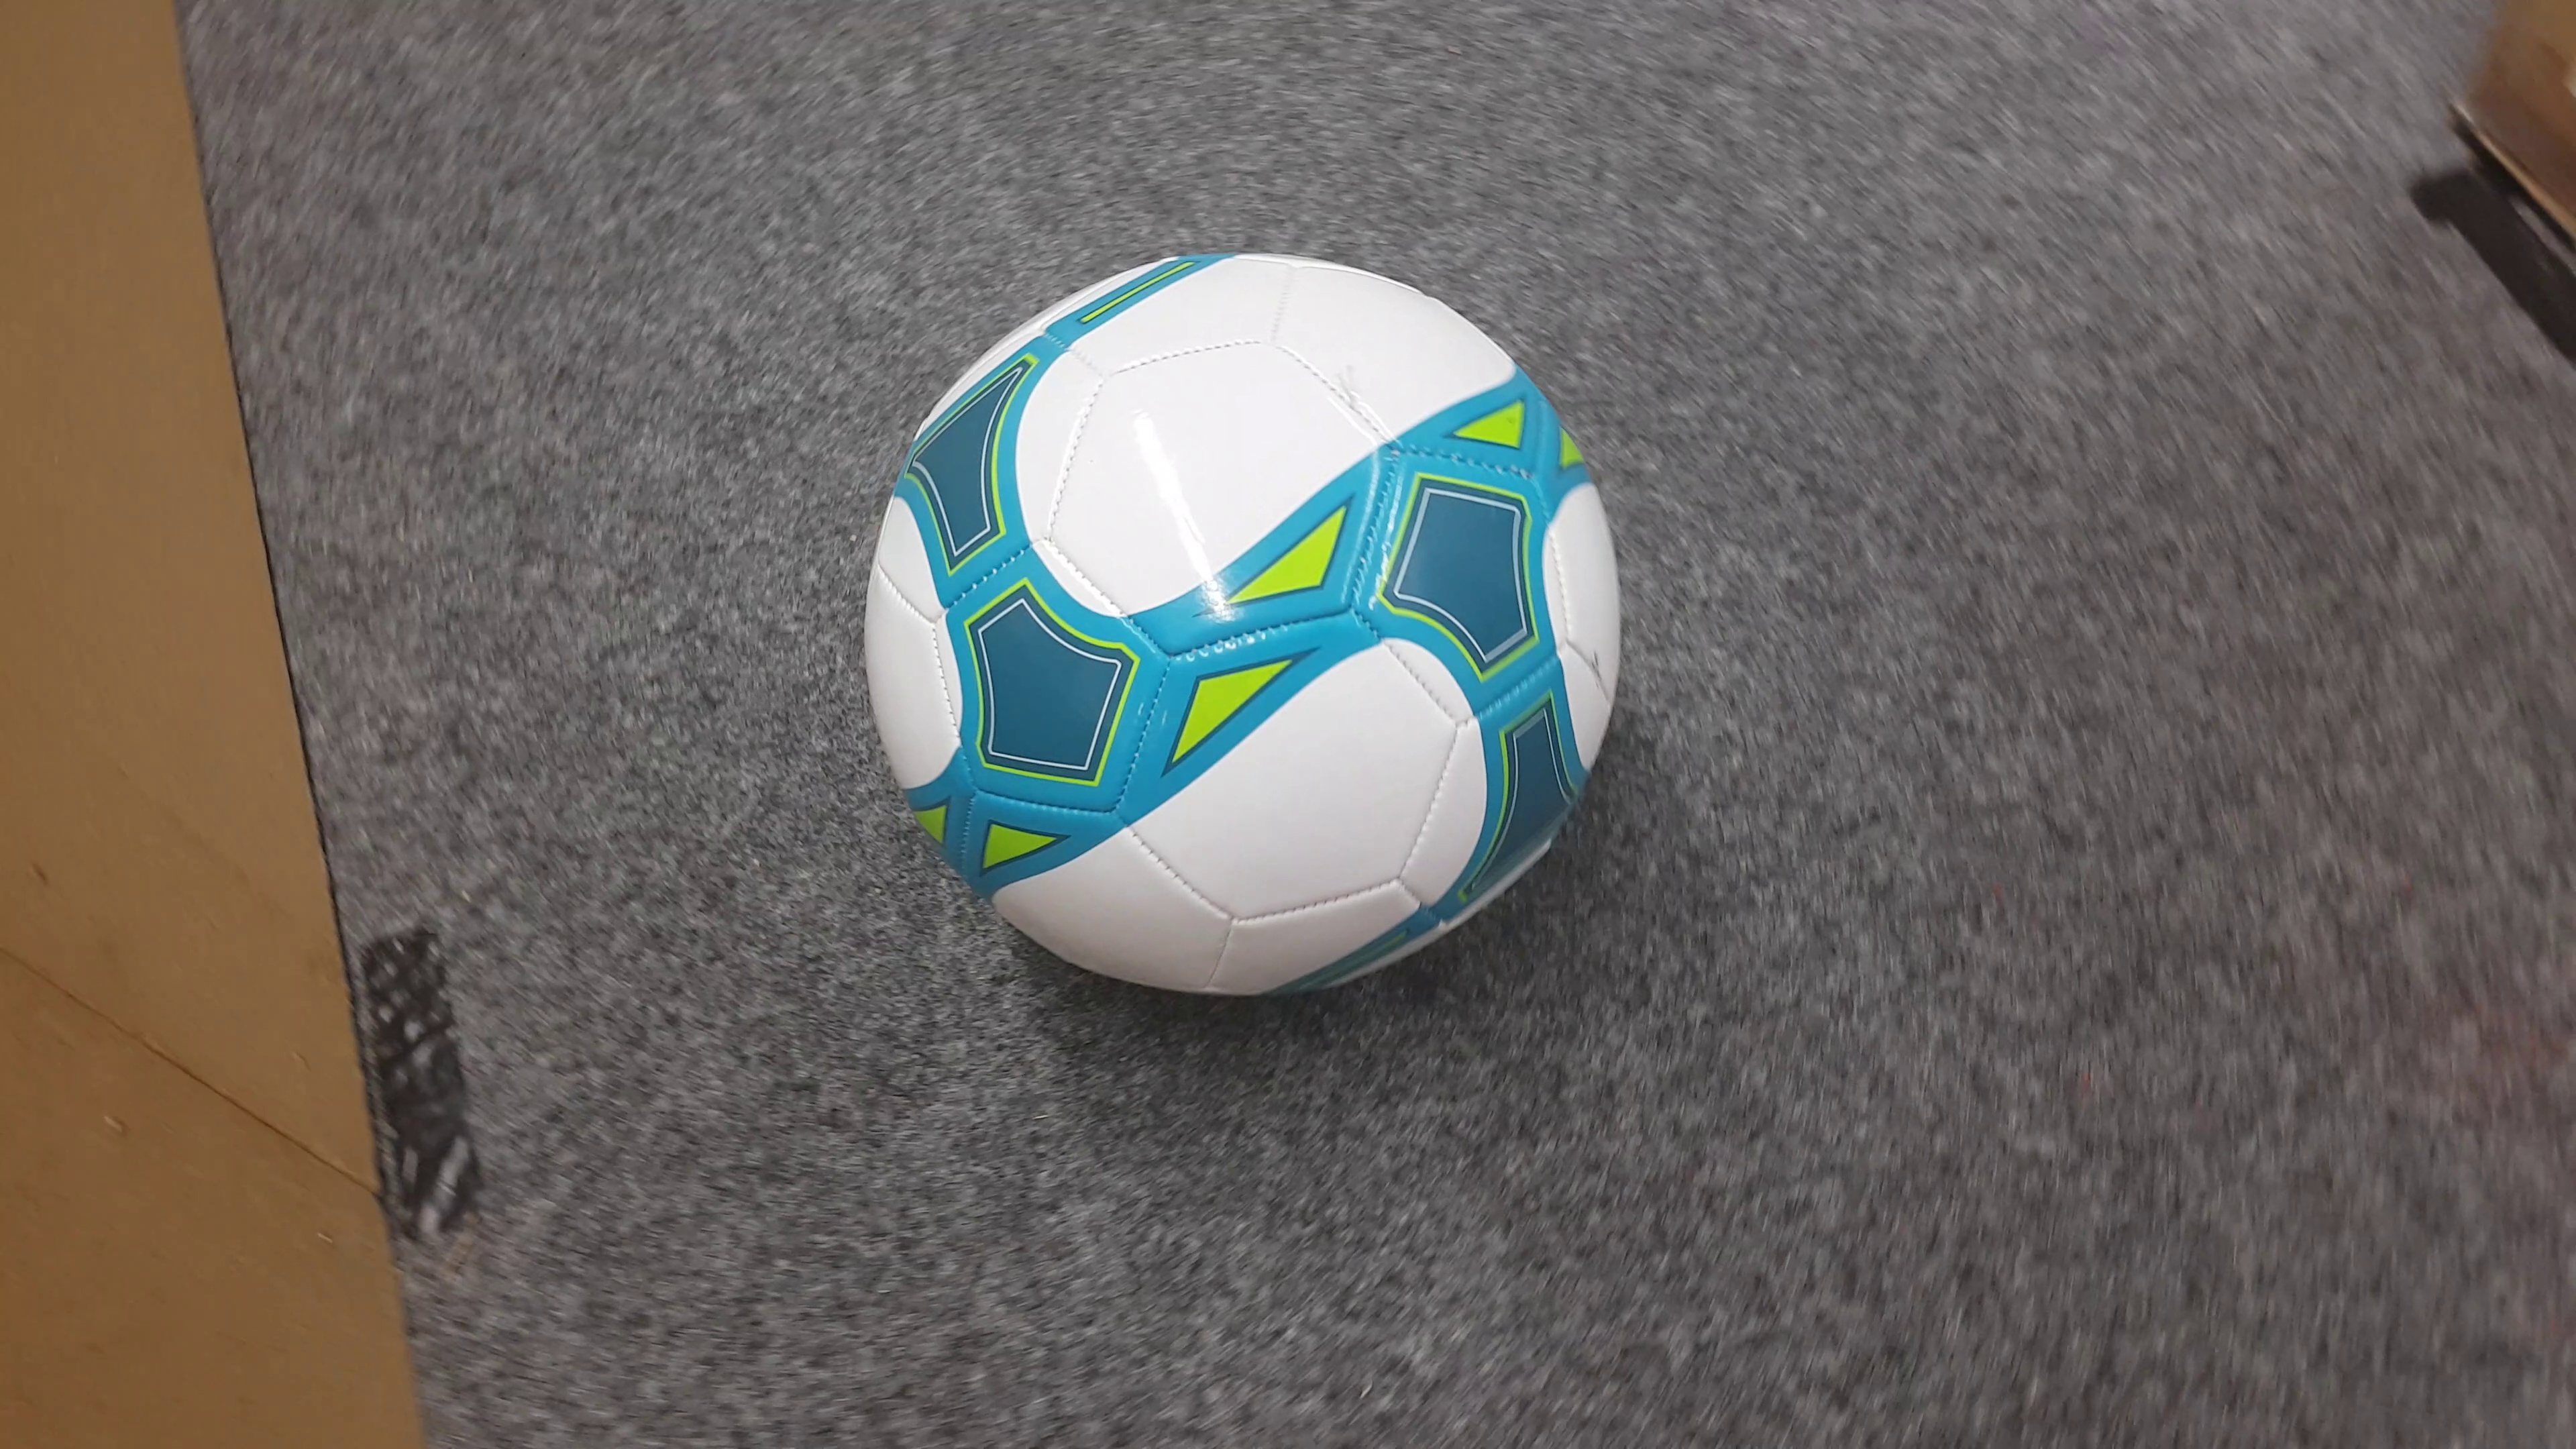kick: (858, 255, 1619, 1010)
